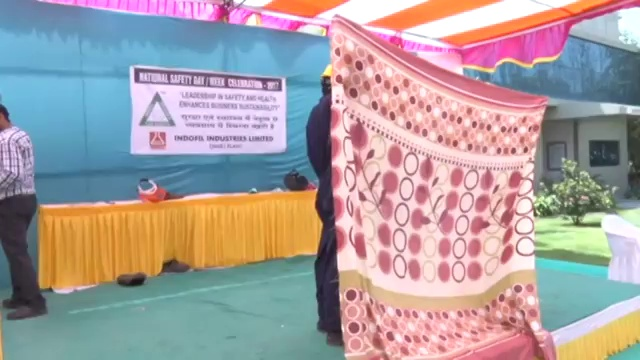person: (303, 64, 345, 348), (1, 102, 43, 320)
